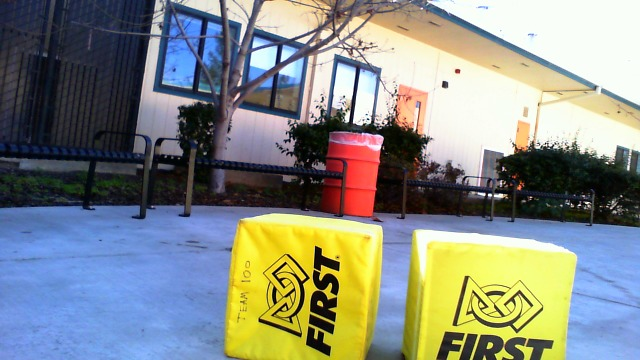cube: (222, 212, 382, 360), (398, 229, 578, 360)
